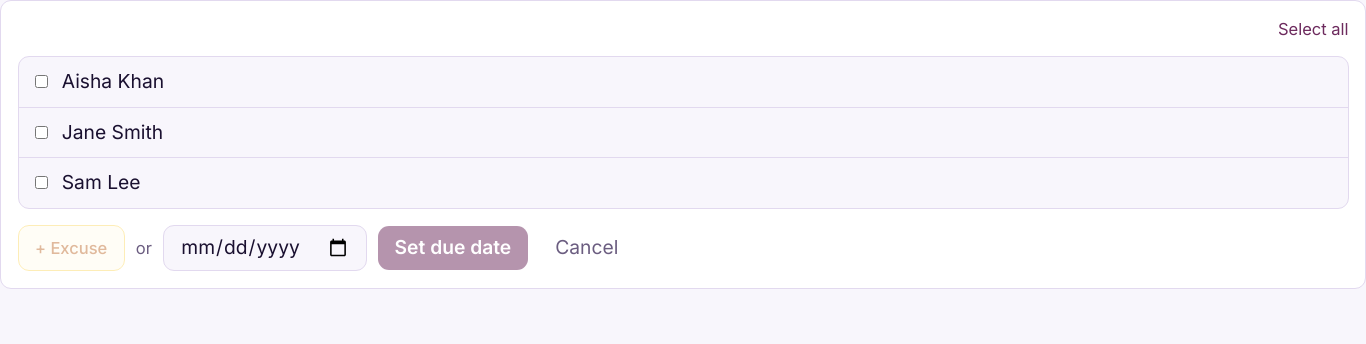
Test: OverrideStudentChecklist › shows the server error and keeps the panel open
What coordinates should you click on to do the following:
click the checkbox labelled "Sam Lee"
I would click on:
 (42, 183)
Its box is [35,176,48,189].
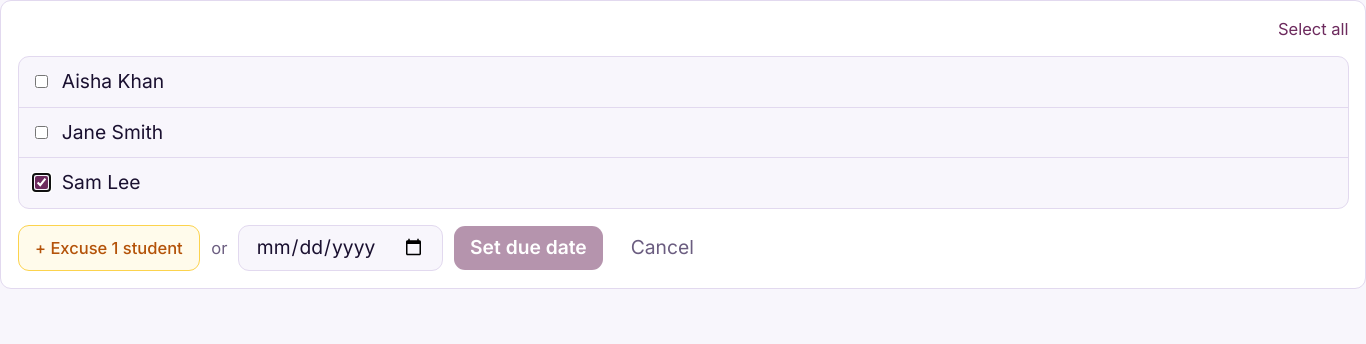
What coordinates should you click on to do the following:
click the button "+ Excuse 1 student"
I would click on:
 (109, 248)
Its box is [18,225,200,271].
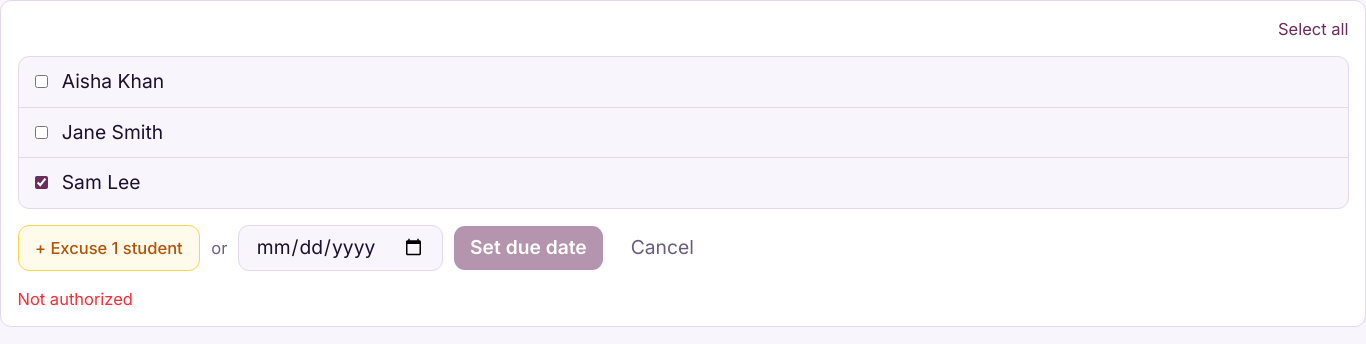
Expected: the message reads "Not authorized", [18,288,133,308]
